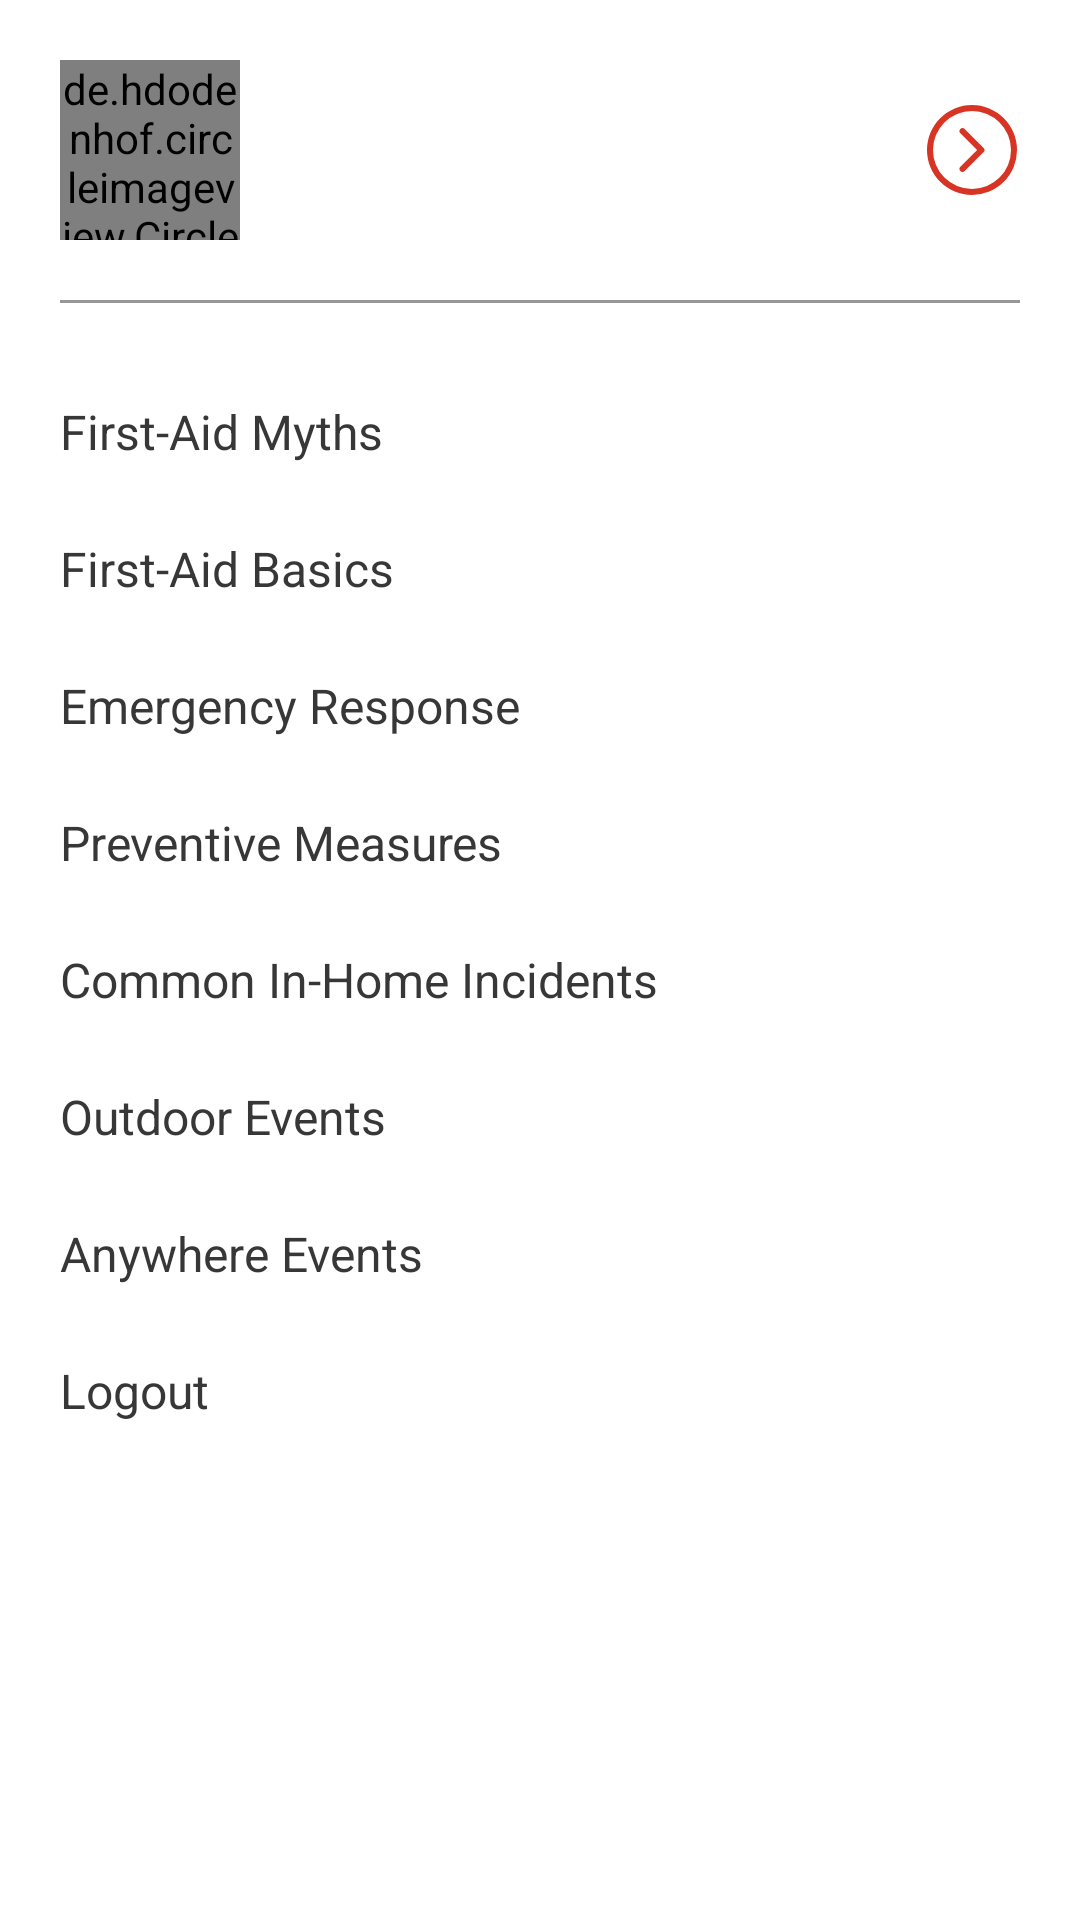

Where to tap for icons on this 1080px×1920px app screen, as (x,y):
next with circle: (972,150)
